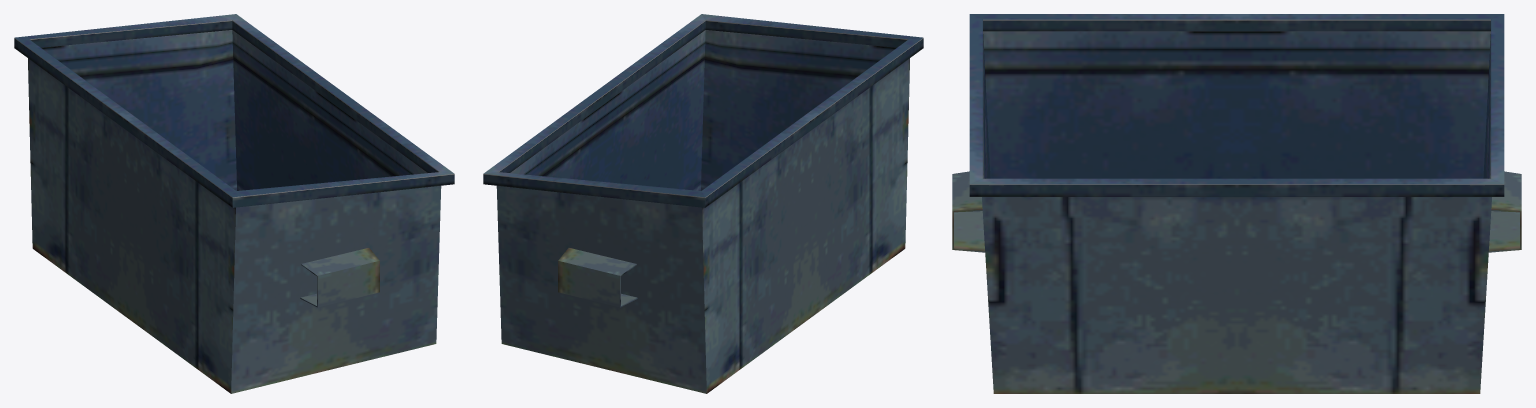
File: Urban_DumpsterDiagonalEmptyNoLidBlue_Model.fbx
The picture shows the model from 3 angles, left to right: view 1: azimuth 30°, elevation 25°; view 2: azimuth 150°, elevation 25°; view 3: azimuth 270°, elevation 25°; orthographic projection. The views are drawn at different scales.
Visible parts, largest first — view 1: Urban_DumpsterDiagonalEmptyNoLidBlue_Mesh; view 2: Urban_DumpsterDiagonalEmptyNoLidBlue_Mesh; view 3: Urban_DumpsterDiagonalEmptyNoLidBlue_Mesh.
Part boxes in pixels (x1,y1,x2,y2): Urban_DumpsterDiagonalEmptyNoLidBlue_Mesh: (14, 14, 454, 393); Urban_DumpsterDiagonalEmptyNoLidBlue_Mesh: (483, 14, 923, 393); Urban_DumpsterDiagonalEmptyNoLidBlue_Mesh: (952, 14, 1521, 393).
Bounding box in the file's own units: 2.03 × 1.8 × 3.67.
